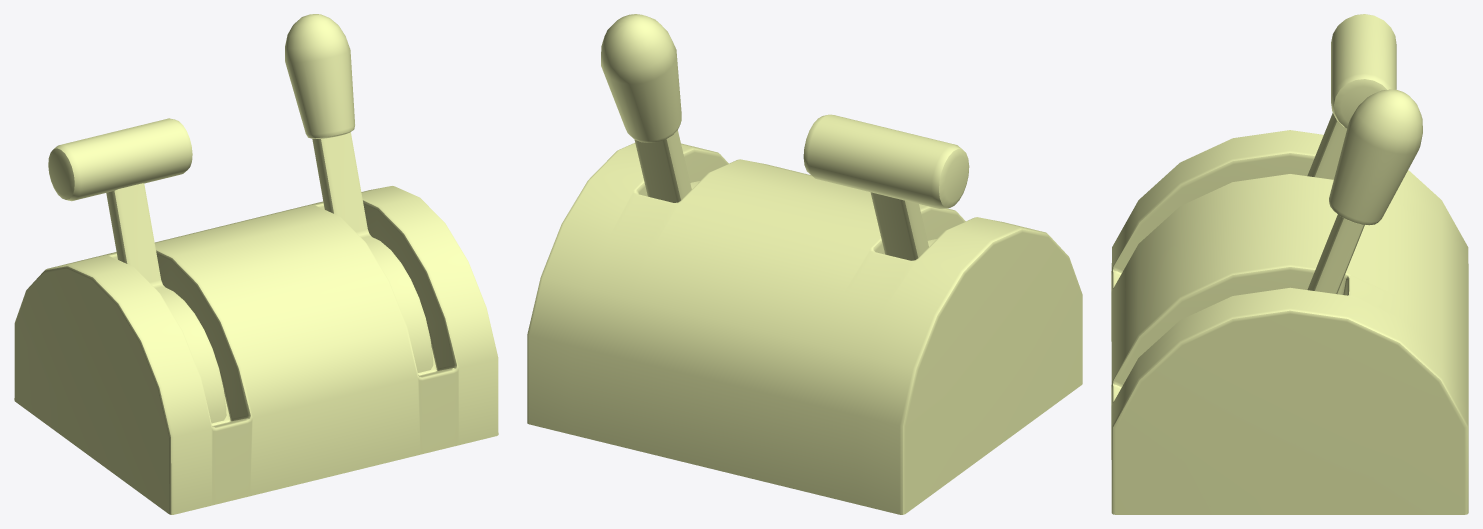
File: Thruster_V2.fbx
3 views of the same model, side by side, from view 1: azimuth 30°, elevation 25°; view 2: azimuth 150°, elevation 25°; view 3: azimuth 270°, elevation 25° (orthographic). The views are drawn at different scales.
Visible parts, largest first — view 1: thruster_base, left_controller_handle, right_controller_handle, right_controller, left_controller; view 2: thruster_base, left_controller_handle, right_controller_handle, right_controller, left_controller; view 3: thruster_base, right_controller_handle, left_controller_handle, right_controller, left_controller.
Part boxes in pixels (bbox=[...]): thruster_base: bbox=[14, 186, 498, 514]; left_controller_handle: bbox=[48, 118, 192, 201]; right_controller_handle: bbox=[285, 14, 354, 138]; right_controller: bbox=[312, 132, 433, 372]; left_controller: bbox=[106, 183, 226, 423]; thruster_base: bbox=[527, 143, 1082, 514]; left_controller_handle: bbox=[803, 114, 969, 209]; right_controller_handle: bbox=[601, 14, 681, 142]; right_controller: bbox=[634, 130, 699, 202]; left_controller: bbox=[870, 192, 936, 260]; thruster_base: bbox=[1111, 130, 1468, 514]; right_controller_handle: bbox=[1329, 89, 1422, 225]; left_controller_handle: bbox=[1331, 14, 1396, 128]; right_controller: bbox=[1307, 214, 1364, 293]; left_controller: bbox=[1307, 113, 1346, 179].
Size of the model in its own units: 0.4579 by 0.4666 by 0.3807.
